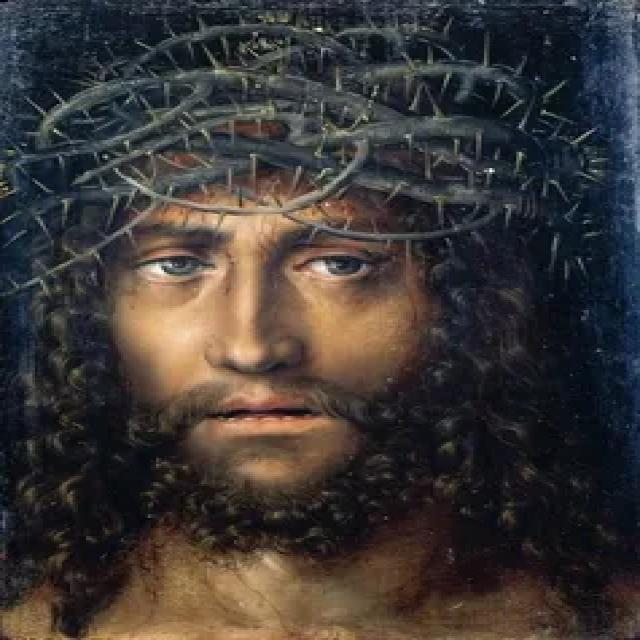crown: (0, 18, 624, 242)
